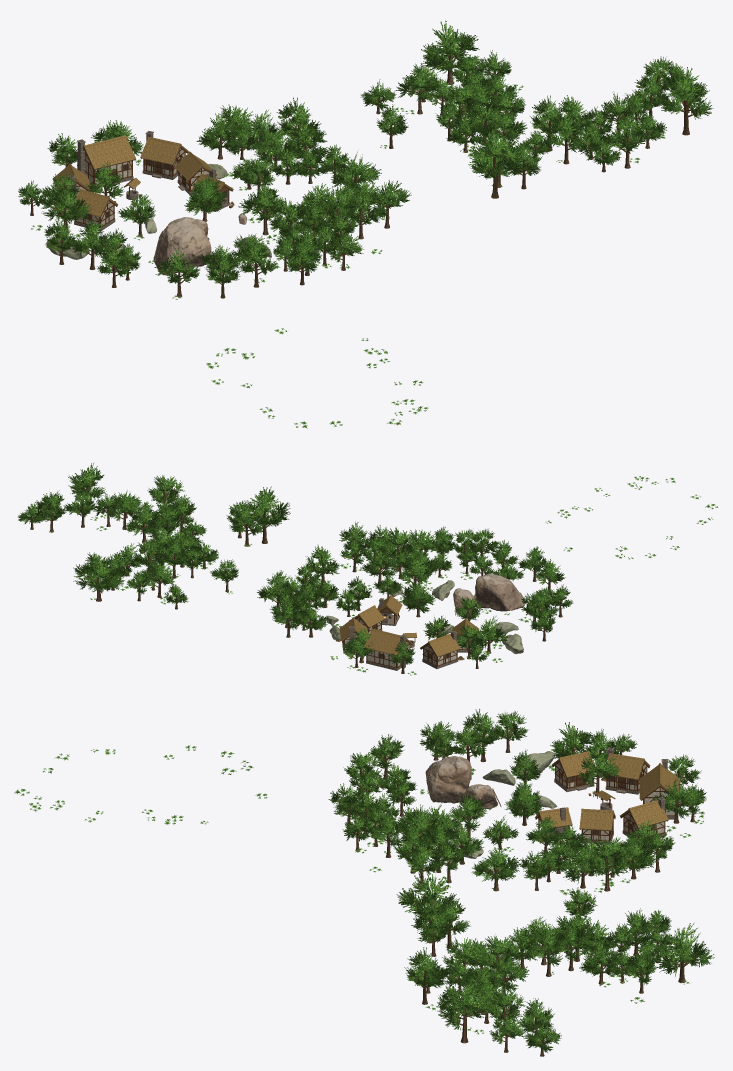
Rendered from vila.glb.
3 renders of one model, top to bottom at view 1: azimuth 30°, elevation 25°; view 2: azimuth 150°, elevation 25°; view 3: azimuth 270°, elevation 25°, orthographic. The views are drawn at different scales.
Visible parts, largest first — view 1: instancia (×37), object 3, boulder_04, object 4, object 2, object 5; view 2: instancia (×45), object 3, boulder_04, object 4, object 2, object 5, mata_copa_1; view 3: instancia (×49), object 3, boulder_04 (×2), object 4, object 5, object 2, mata_copa_1.
Boxes of the visible parts, x1,y1,x2,y2 form: instancia (×37): (39,20,713,284); object 3: (52,135,233,217); boulder_04: (153,217,211,275); object 4: (56,147,232,227); object 2: (66,131,230,231); object 5: (68,148,209,225); instancia (×45): (33,463,565,664); object 3: (339,594,479,657); boulder_04: (474,573,525,611); object 4: (342,607,472,668); object 2: (342,598,476,670); object 5: (345,617,473,667); mata_copa_1: (401,580,432,605); instancia (×49): (328,708,714,1052); object 3: (535,751,680,830); boulder_04 (×2): (425,756,497,812); object 4: (535,761,675,841); object 5: (555,762,675,840); object 2: (542,747,674,844); mata_copa_1: (506,780,541,813).
Size of what is drawn, in the model's own units: 130 by 15.29 by 121.
Materials: 610 (606 with a texture image).
